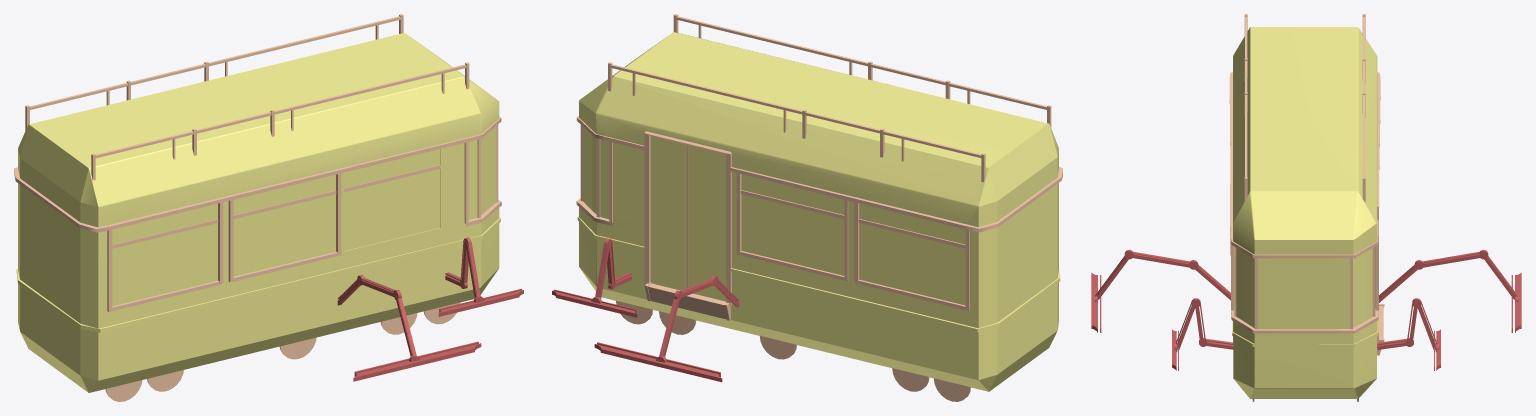
File: Tram_substance.fbx
3 renders of one model, left to right at view 1: azimuth 30°, elevation 25°; view 2: azimuth 150°, elevation 25°; view 3: azimuth 270°, elevation 25°, orthographic. The views are drawn at different scales.
Visible parts, largest first — view 1: polySurface1, WindowRight, polySurface3, WindowFront, pCube44, pCube42, pCube51, pCube93, pCube97, pCube48, pCylinder8, pCylinder9 (+6 smaller); view 2: polySurface1, WindowLeft, pCube6, pCube7, polySurface3, WindowFront, pCube42, pCube44, pCube3, pCube1, pCube26, pCube164 (+11 smaller); view 3: polySurface1, WindowFront, polySurface3, polySurface4, pCube42, pCube44.
Part boxes in pixels (box(x1,y1,x2,y2)): polySurface1: box(16, 33, 500, 392); WindowRight: box(112, 149, 439, 306); polySurface3: box(14, 116, 501, 232); WindowFront: box(468, 126, 495, 219); pCube44: box(95, 64, 466, 158); pCube42: box(30, 16, 400, 109); pCube51: box(353, 343, 481, 381); pCube93: box(107, 280, 222, 311); pCube97: box(228, 251, 341, 282); pCube48: box(438, 290, 523, 316); pCylinder8: box(279, 337, 316, 359); pCylinder9: box(147, 370, 183, 391); polySurface1: box(577, 32, 1060, 391); WindowLeft: box(741, 174, 965, 305); pCube6: box(650, 136, 686, 290); pCube7: box(689, 145, 726, 301); polySurface3: box(576, 116, 1062, 232); WindowFront: box(583, 127, 609, 219); pCube42: box(611, 64, 981, 157); pCube44: box(676, 16, 1046, 109); pCube3: box(648, 283, 726, 319); pCube1: box(644, 133, 650, 285); pCube26: box(594, 344, 722, 382); pCube164: box(726, 153, 731, 306); polySurface1: box(1232, 27, 1378, 398); WindowFront: box(1236, 248, 1372, 329); polySurface3: box(1229, 72, 1380, 258); polySurface4: box(1231, 310, 1378, 333); pCube42: box(1363, 16, 1365, 177); pCube44: box(1245, 16, 1247, 177).
Size of the model in its own units: 6.67 by 3.86 by 6.51.
